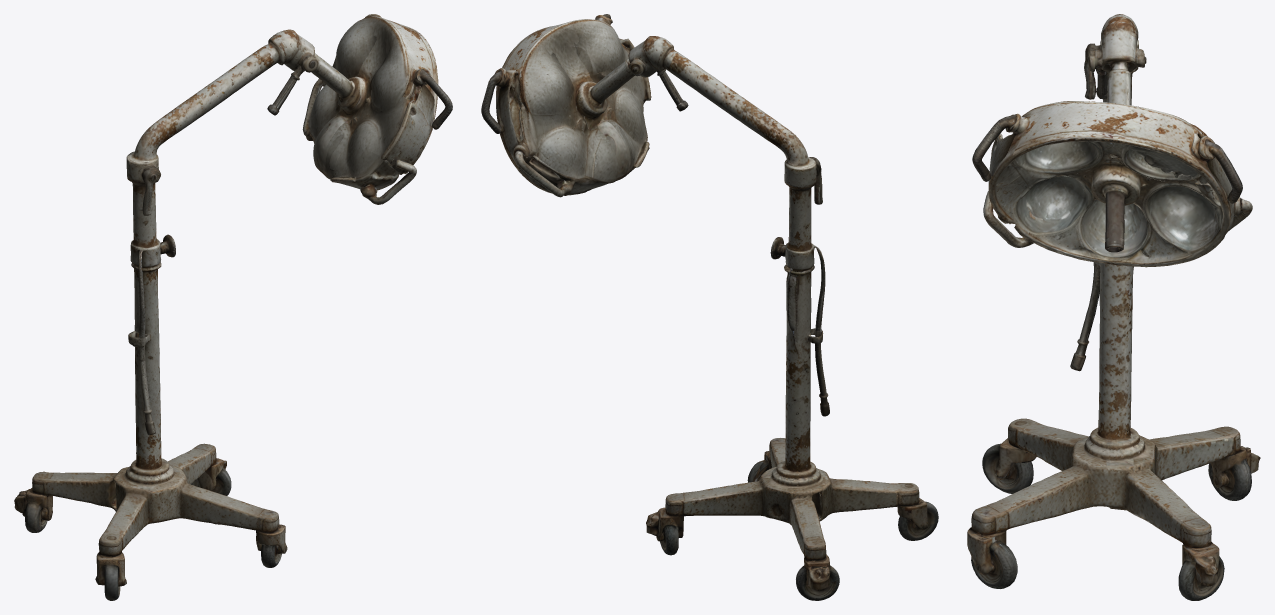
The model's file is SurgicalLamp.fbx.
3 views of the same model, side by side, from view 1: azimuth 30°, elevation 25°; view 2: azimuth 150°, elevation 25°; view 3: azimuth 270°, elevation 25° (orthographic). The views are drawn at different scales.
Parts seen in each view (by area): view 1: texture_mapping; view 2: texture_mapping; view 3: texture_mapping.
Boxes of the visible parts, x1,y1,x2,y2 form: texture_mapping: [14, 14, 452, 600]; texture_mapping: [481, 14, 938, 600]; texture_mapping: [967, 14, 1260, 600].
Bounding box in the file's own units: 0.7938 × 0.4371 × 1.
1 material, 1 textured.
